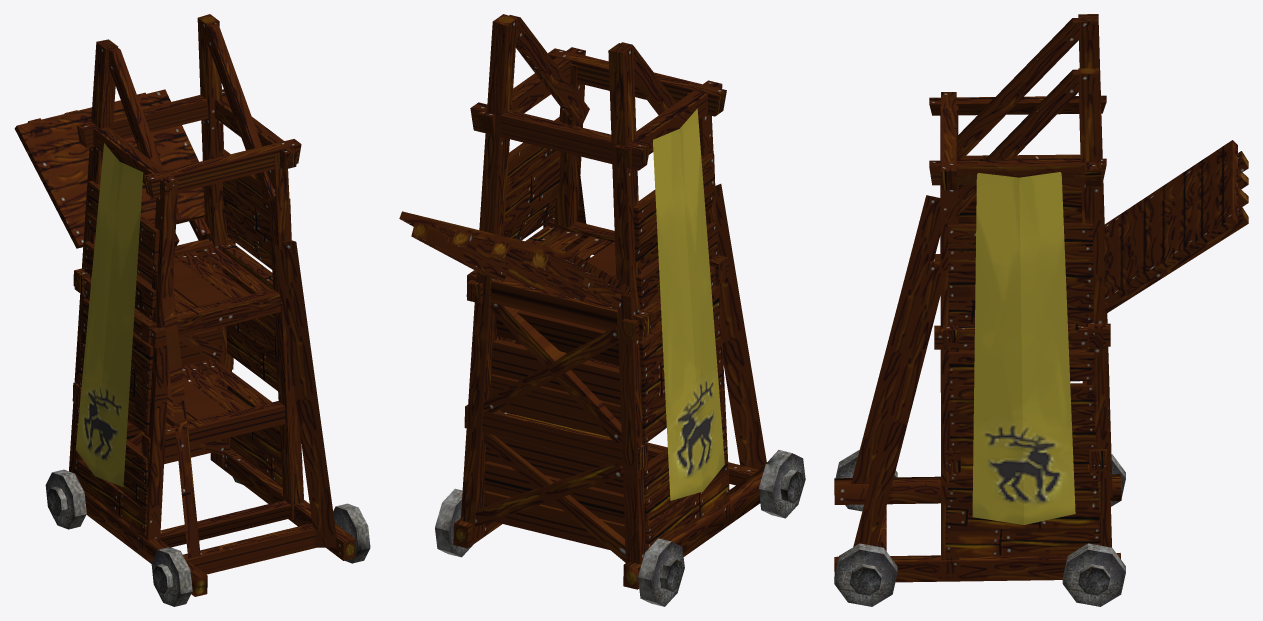
The model's file is game-siege-engine.glb.
3 views of the same model, side by side, from view 1: azimuth 30°, elevation 25°; view 2: azimuth 150°, elevation 25°; view 3: azimuth 270°, elevation 25° (orthographic). The views are drawn at different scales.
Parts seen in each view (by area): view 1: polySurface22, polySurface21, Wheel_BL, Wheel_FL, Wheel_BR; view 2: polySurface22, polySurface21, Wheel_FL, Wheel_BL, Wheel_FR; view 3: polySurface22, polySurface21, Wheel_FR, Wheel_BR.
Part boxes in pixels (x1,y1,x2,y2): polySurface22: [69, 14, 355, 596]; polySurface21: [14, 89, 210, 248]; Wheel_BL: [151, 547, 192, 606]; Wheel_FL: [45, 469, 86, 529]; Wheel_BR: [333, 503, 370, 563]; polySurface22: [453, 14, 766, 589]; polySurface21: [399, 211, 636, 309]; Wheel_FL: [638, 538, 684, 606]; Wheel_BL: [758, 450, 805, 518]; Wheel_FR: [435, 488, 472, 557]; polySurface22: [834, 14, 1121, 582]; polySurface21: [1103, 140, 1248, 313]; Wheel_FR: [1062, 543, 1125, 606]; Wheel_BR: [834, 543, 897, 606].
Bounding box in the file's own units: 0.1901 × 0.4286 × 0.3139.
1 material, 1 textured.
